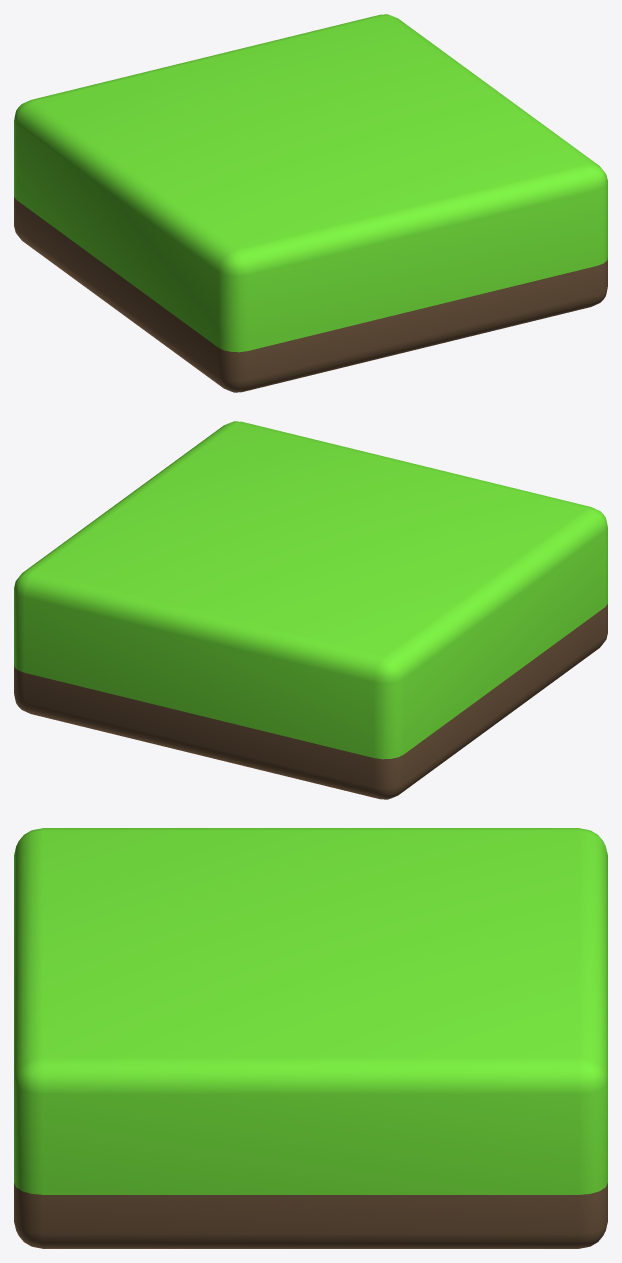
The model's file is Cube-Grass_001.fbx.
The picture shows the model from 3 angles, top to bottom: view 1: azimuth 30°, elevation 25°; view 2: azimuth 150°, elevation 25°; view 3: azimuth 270°, elevation 25°; orthographic projection. The views are drawn at different scales.
Visible parts, largest first — view 1: Cube-Grass.001; view 2: Cube-Grass.001; view 3: Cube-Grass.001.
Part boxes in pixels (x1,y1,x2,y2): Cube-Grass.001: (14,14,607,392); Cube-Grass.001: (14,421,607,799); Cube-Grass.001: (14,828,607,1248).
Bounding box in the file's own units: 14.29 × 5 × 14.29.
